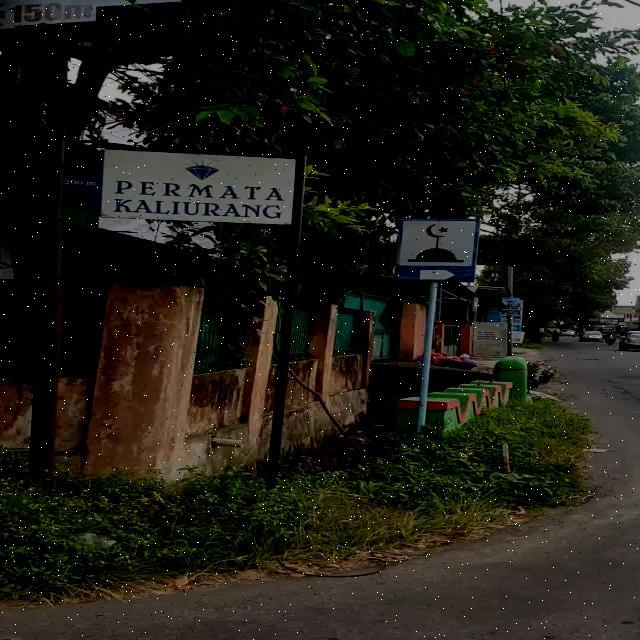Masjid: (394, 218, 479, 282)
